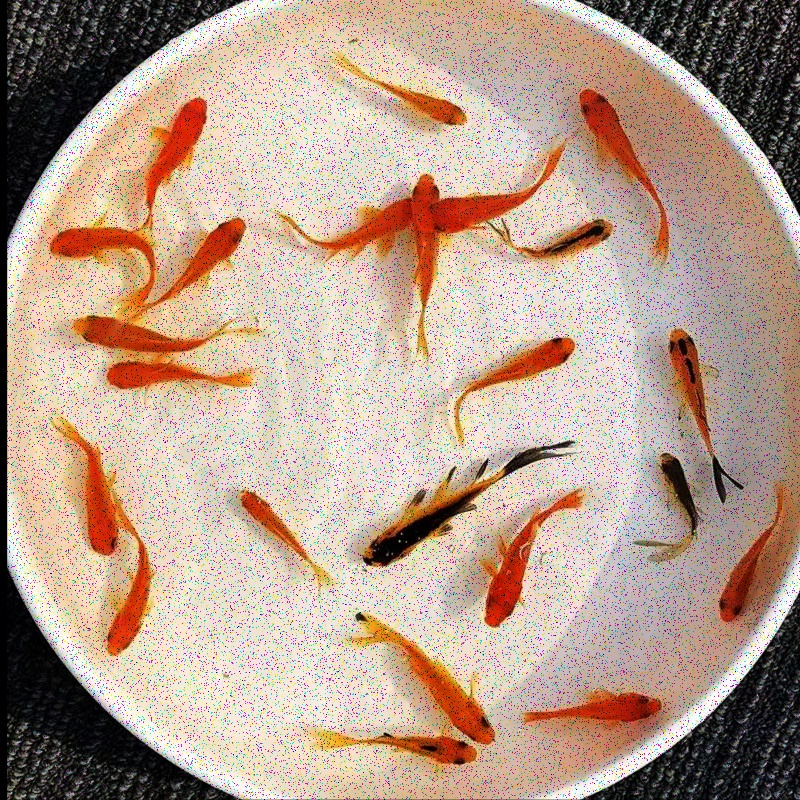fry: (346, 442, 514, 570), (568, 72, 700, 230), (351, 609, 503, 746), (439, 329, 581, 450), (482, 488, 594, 631), (323, 35, 482, 134), (666, 307, 745, 498), (414, 144, 570, 240), (124, 83, 221, 218), (219, 475, 340, 582), (710, 467, 784, 633), (50, 419, 128, 567), (41, 212, 163, 305), (630, 441, 709, 582), (92, 533, 178, 662), (513, 678, 678, 741), (61, 307, 263, 358), (270, 191, 412, 260), (312, 721, 478, 777), (94, 356, 263, 402), (170, 208, 251, 303), (508, 210, 628, 272), (408, 167, 447, 357)
